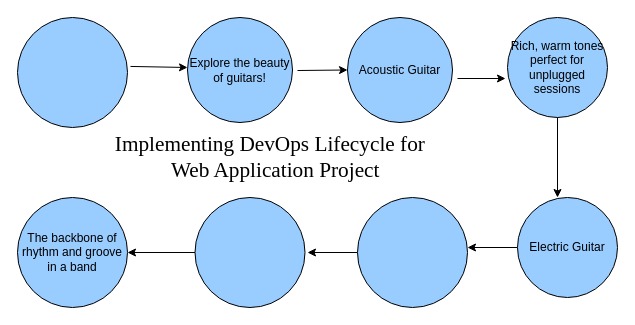
Some shapes in this 635 by 325 pixel diagram are drawn without their labels. The shapes that lost their labels are listed below. From the top down, each one's box as (x1, y1, x2, y2) in pixels, then its label:
(16, 16, 128, 128): My Guitar Gallery
(194, 196, 305, 308): Bass Guitar
(356, 196, 468, 308): Bold and powerful sound, ideal for rock and metal
